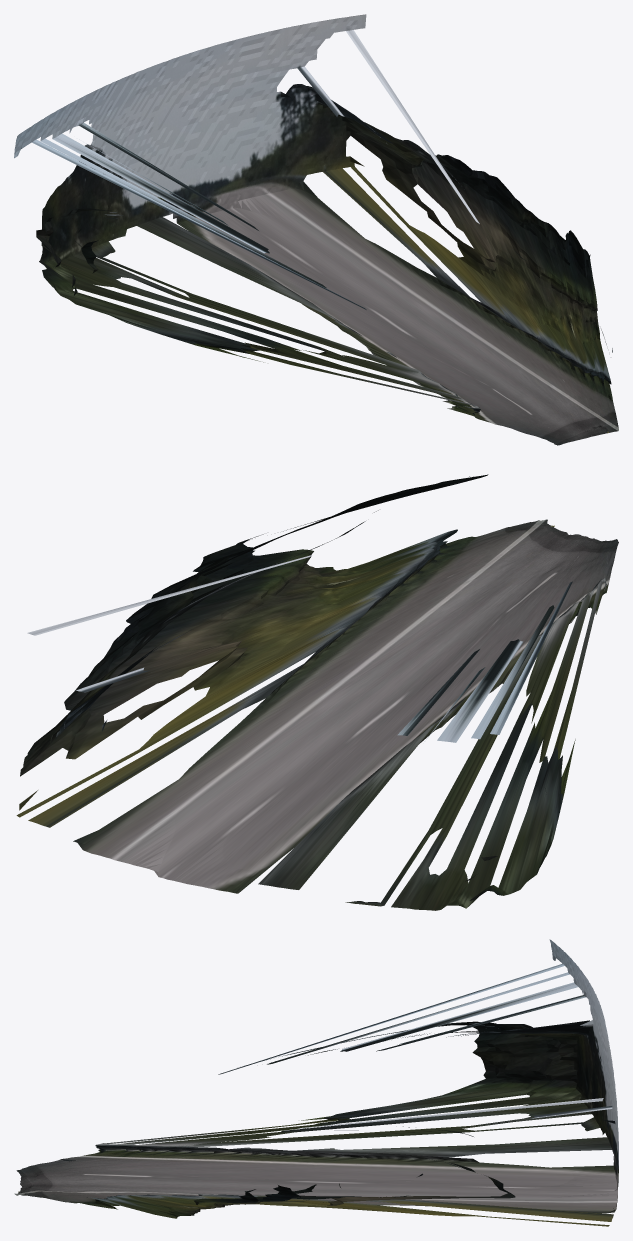
3 views of the same model, one above another, from view 1: azimuth 30°, elevation 25°; view 2: azimuth 150°, elevation 25°; view 3: azimuth 270°, elevation 25° (orthographic). The views are drawn at different scales.
Visible parts, largest first — view 1: defaultobject; view 2: defaultobject; view 3: defaultobject.
Part boxes in pixels (x1,y1,x2,y2): defaultobject: [14, 14, 618, 445]; defaultobject: [16, 474, 618, 910]; defaultobject: [14, 939, 618, 1226].
Bounding box in the file's own units: 30.96 × 12.62 × 44.91.
Materials: 1 (1 with a texture image).
